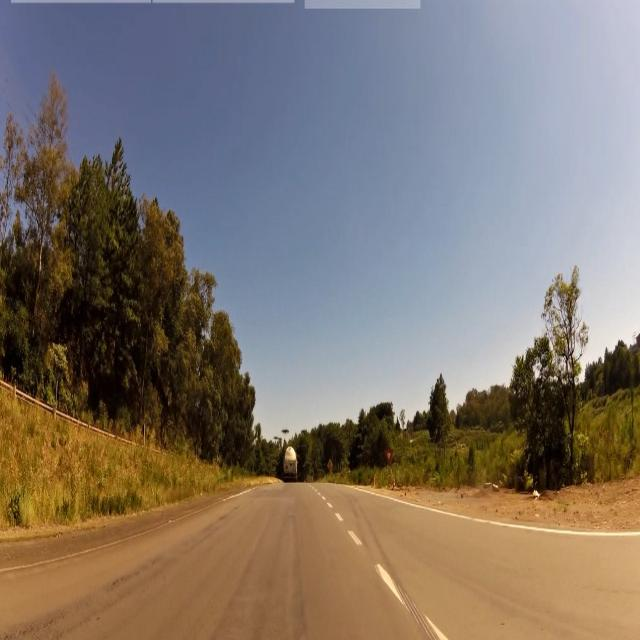R-2: (384, 449, 394, 466)
